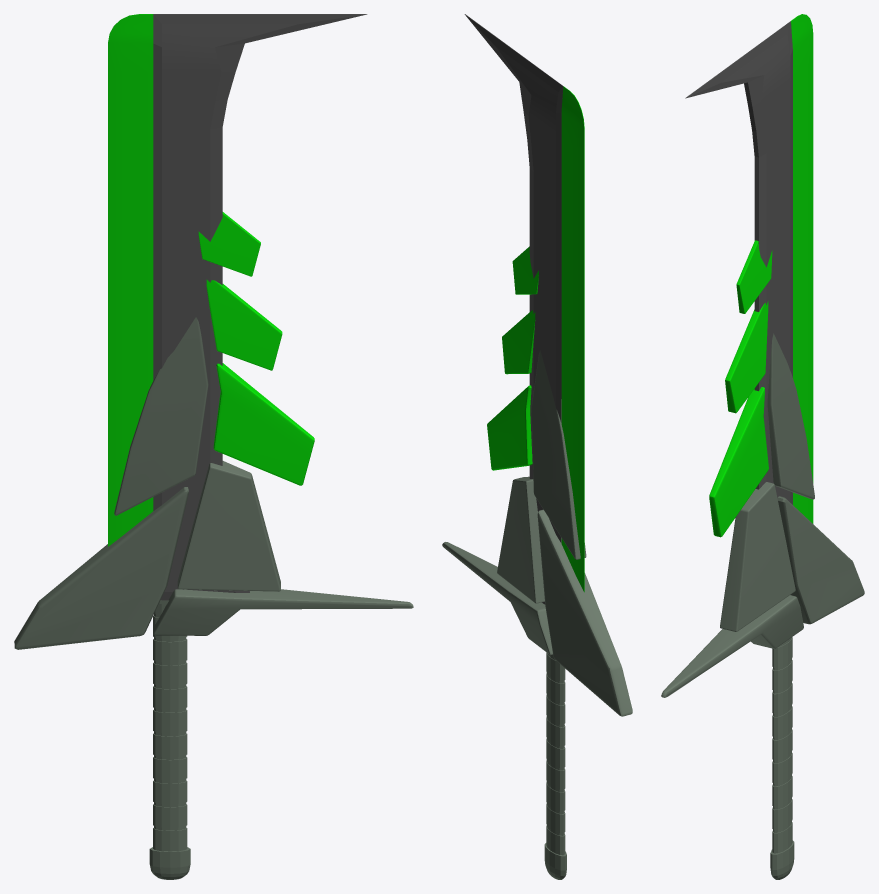
Rendered from BSword1.fbx.
The picture shows the model from 3 angles, left to right: view 1: azimuth 30°, elevation 25°; view 2: azimuth 150°, elevation 25°; view 3: azimuth 270°, elevation 25°; orthographic projection. The views are drawn at different scales.
Visible parts, largest first — view 1: polySurface1, polySurface2, pCube1, pCube2, pCube4, Grip5, pCube5, pCube8, pCube6, pCube7; view 2: polySurface1, polySurface2, pCube1, pCube2, Grip5, pCube4, pCube5, pCube8, pCube6, pCube7; view 3: polySurface1, polySurface2, pCube4, pCube1, Grip5, pCube5, pCube2, pCube8, pCube6, pCube7.
Part boxes in pixels (box(x1,y1,x2,y2)): polySurface1: box(153, 14, 367, 600); polySurface2: box(108, 14, 153, 546); pCube1: box(14, 487, 188, 649); pCube2: box(114, 317, 208, 515); pCube4: box(177, 461, 280, 591); Grip5: box(149, 600, 190, 879); pCube5: box(213, 363, 314, 485); pCube8: box(153, 589, 413, 635); pCube6: box(206, 279, 282, 370); pCube7: box(198, 212, 260, 276); polySurface1: box(464, 14, 563, 604); polySurface2: box(561, 86, 584, 592); pCube1: box(537, 509, 632, 716); pCube2: box(531, 350, 586, 559); Grip5: box(544, 652, 566, 879); pCube4: box(497, 476, 544, 603); pCube5: box(487, 385, 532, 470); pCube8: box(442, 542, 552, 654); pCube6: box(502, 310, 535, 374); pCube7: box(512, 246, 538, 294); polySurface1: box(685, 21, 792, 504); polySurface2: box(791, 14, 813, 523); pCube4: box(720, 482, 795, 631); pCube1: box(777, 496, 864, 624); Grip5: box(770, 637, 794, 879); pCube5: box(709, 387, 768, 537); pCube2: box(767, 333, 814, 499); pCube8: box(661, 595, 803, 697); pCube6: box(725, 301, 768, 413); pCube7: box(736, 240, 772, 313).
Bounding box in the file's own units: 3.28 × 8.98 × 1.94.
